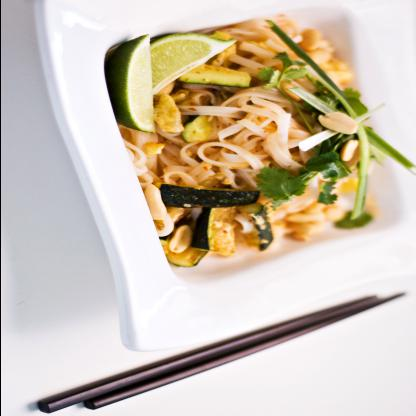Pad Thai: (111, 13, 380, 272)
